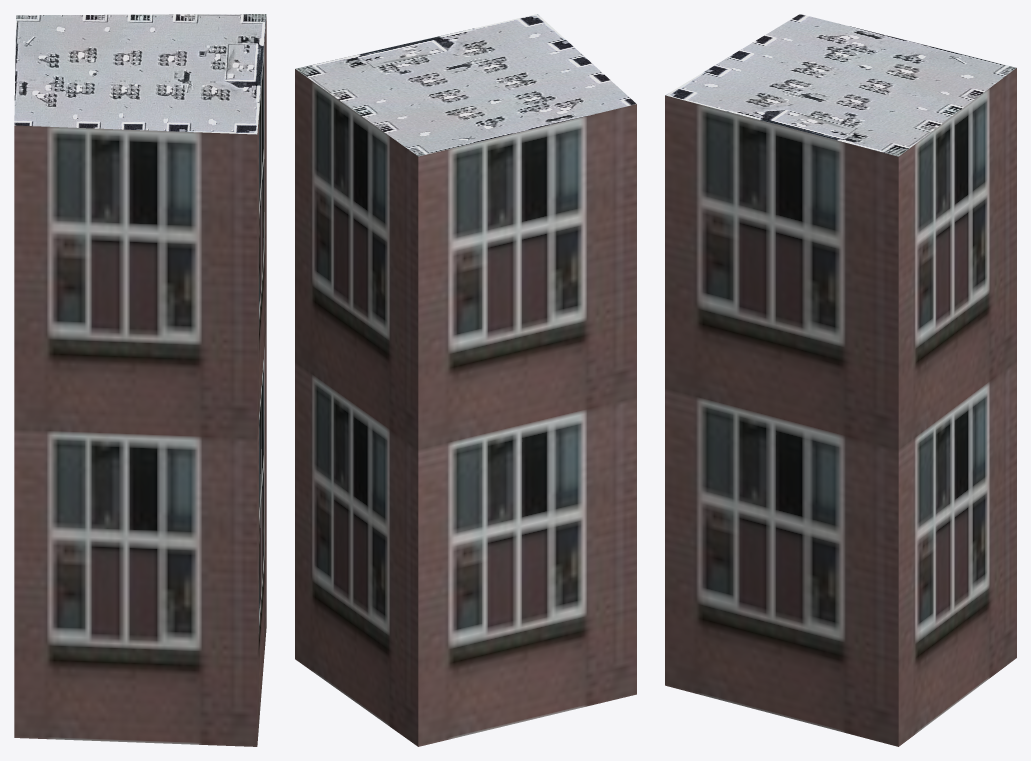
Rendered from ResTex__4385.fbx.
The picture shows the model from 3 angles, left to right: view 1: azimuth 30°, elevation 25°; view 2: azimuth 150°, elevation 25°; view 3: azimuth 270°, elevation 25°; orthographic projection. The views are drawn at different scales.
Visible parts, largest first — view 1: CityEngineMaterial_12_m, CityEngineMaterial_m; view 2: CityEngineMaterial_12_m, CityEngineMaterial_m; view 3: CityEngineMaterial_12_m, CityEngineMaterial_m.
Boxes of the visible parts, box(x1,y1,x2,y2) form: CityEngineMaterial_12_m: box(14, 16, 266, 746); CityEngineMaterial_m: box(14, 14, 266, 134); CityEngineMaterial_12_m: box(295, 69, 636, 746); CityEngineMaterial_m: box(295, 14, 636, 156); CityEngineMaterial_12_m: box(665, 68, 1016, 746); CityEngineMaterial_m: box(665, 14, 1016, 156).
Size of the model in its own units: 3.11 by 6 by 3.24.
2 materials, 2 textured.
